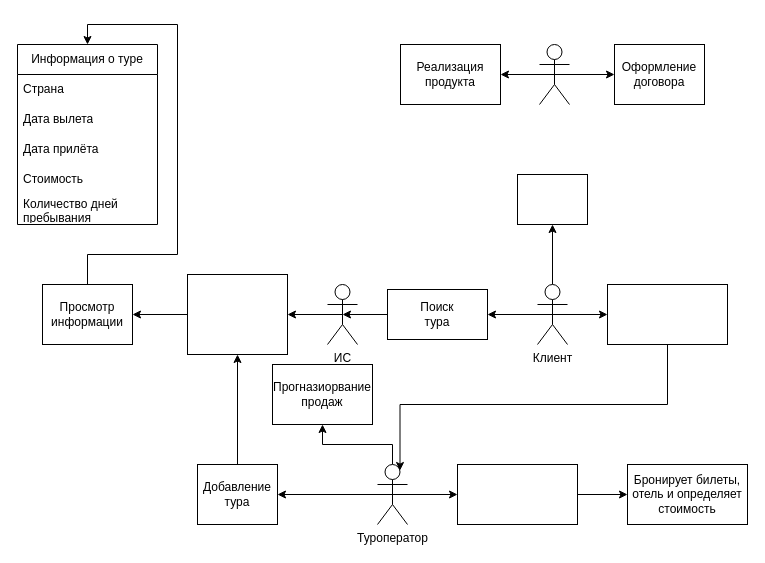
This 765x563 diagram has some shape labels left out. Here are the shapes that lost their labels. From the top down, the box of each, then its label:
(538, 44, 570, 104): Турагент
(516, 174, 588, 224): Оставить пожелание на сайте
(186, 274, 288, 354): предоставляет каталог всех имеющихся туров
(606, 284, 728, 344): Бронирования тура
(456, 464, 578, 524): Формирование тура
